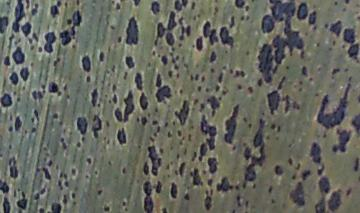tarspot: (269, 1, 303, 64), (316, 82, 351, 129), (244, 146, 266, 180), (257, 44, 273, 83), (224, 106, 240, 144), (201, 113, 217, 149), (147, 144, 162, 177), (174, 99, 191, 126), (289, 182, 306, 208), (334, 128, 351, 153), (13, 1, 25, 33), (267, 90, 280, 117), (254, 117, 266, 146), (126, 15, 137, 46), (124, 91, 135, 121), (328, 189, 342, 212), (143, 181, 153, 213), (219, 27, 234, 48), (308, 140, 321, 164), (216, 175, 233, 193), (190, 166, 204, 187), (341, 26, 357, 44), (156, 85, 172, 103), (43, 32, 56, 53), (329, 17, 342, 38), (207, 96, 220, 117), (261, 14, 275, 33), (75, 116, 89, 135), (92, 114, 103, 138), (166, 10, 178, 31), (11, 47, 25, 65), (319, 177, 332, 196), (17, 191, 29, 211), (8, 156, 18, 179), (116, 127, 127, 147), (280, 94, 291, 113), (313, 197, 326, 213), (296, 3, 308, 20), (134, 72, 144, 92), (41, 163, 52, 181), (208, 27, 218, 46), (178, 14, 185, 41), (168, 182, 179, 199), (13, 115, 24, 132), (81, 54, 91, 72), (8, 71, 20, 86), (112, 107, 124, 122), (60, 29, 71, 45), (72, 8, 81, 27), (199, 144, 209, 161), (208, 156, 218, 173), (347, 45, 360, 58), (21, 21, 32, 36), (307, 10, 317, 26), (352, 113, 360, 133), (47, 81, 59, 94), (50, 200, 62, 213), (124, 55, 135, 69), (2, 93, 13, 107), (195, 35, 204, 52), (139, 92, 148, 109), (1, 15, 9, 34), (20, 67, 30, 82), (203, 195, 213, 210), (4, 195, 12, 213), (91, 89, 99, 106), (203, 18, 210, 37), (58, 137, 69, 149), (151, 1, 160, 15), (1, 179, 10, 193), (277, 75, 285, 90), (142, 162, 150, 177), (208, 50, 217, 63), (157, 24, 165, 38), (179, 162, 186, 178), (155, 72, 162, 88), (49, 6, 59, 17), (274, 165, 284, 176), (166, 33, 175, 45), (234, 70, 246, 79), (317, 164, 326, 176), (292, 99, 301, 111), (354, 156, 360, 173), (301, 170, 311, 180), (173, 1, 182, 12), (97, 52, 106, 63), (31, 90, 42, 99), (185, 23, 192, 37), (31, 3, 38, 16), (3, 54, 10, 67), (32, 30, 39, 43), (217, 71, 224, 84), (155, 181, 162, 194), (234, 1, 245, 9), (161, 55, 169, 66), (330, 66, 341, 74), (301, 65, 308, 77), (190, 151, 197, 163), (140, 116, 148, 126), (86, 156, 94, 166), (112, 94, 118, 106), (34, 110, 40, 122), (33, 192, 41, 201), (190, 1, 197, 11), (183, 192, 190, 202), (70, 167, 77, 177), (54, 56, 60, 67), (62, 193, 68, 204), (269, 197, 277, 205), (220, 63, 228, 71), (194, 73, 201, 82), (176, 128, 183, 137), (173, 168, 180, 177), (40, 84, 47, 93), (104, 119, 111, 128), (147, 135, 156, 142), (115, 1, 121, 11), (152, 37, 158, 47), (230, 16, 235, 28), (182, 147, 188, 157), (111, 62, 116, 74), (8, 33, 15, 41), (247, 86, 254, 94), (193, 98, 200, 106), (290, 172, 297, 180), (267, 185, 274, 193), (30, 126, 37, 134), (74, 142, 82, 149), (70, 192, 77, 200), (71, 28, 76, 39), (257, 78, 263, 87), (111, 83, 117, 92), (122, 71, 128, 80), (64, 180, 70, 189), (63, 171, 69, 180), (58, 170, 64, 179), (117, 35, 122, 45), (200, 101, 205, 111), (346, 188, 351, 198), (109, 25, 116, 32), (196, 85, 203, 92), (294, 162, 301, 169), (15, 96, 22, 103), (52, 112, 59, 119), (153, 131, 160, 138), (80, 135, 87, 142), (38, 206, 45, 213), (106, 160, 113, 167), (85, 75, 91, 83), (151, 49, 157, 57), (200, 75, 206, 83), (270, 122, 276, 130), (323, 21, 329, 29), (287, 157, 293, 165), (244, 199, 250, 207), (231, 144, 237, 152), (204, 188, 210, 196), (207, 178, 213, 186), (62, 84, 68, 92), (47, 160, 53, 168), (57, 180, 63, 188), (83, 173, 91, 179), (57, 118, 63, 126), (25, 1, 30, 10), (29, 36, 34, 45), (215, 84, 220, 93), (187, 132, 192, 141), (356, 94, 360, 105), (37, 46, 43, 53), (209, 67, 215, 74), (242, 116, 249, 122), (190, 42, 196, 49), (40, 187, 46, 194), (104, 206, 110, 213), (342, 67, 349, 73), (29, 45, 36, 51), (183, 62, 189, 69), (146, 61, 152, 68), (168, 70, 173, 78), (214, 5, 219, 13), (242, 181, 247, 189), (237, 200, 242, 208), (159, 147, 164, 155), (122, 165, 126, 175), (93, 168, 98, 176), (56, 1, 62, 7), (63, 2, 69, 8), (67, 19, 73, 25), (245, 5, 251, 11), (152, 119, 158, 125), (166, 162, 170, 171), (7, 126, 13, 132), (36, 167, 42, 173), (97, 189, 103, 195), (121, 201, 127, 207), (347, 76, 353, 82), (136, 143, 142, 149), (71, 43, 77, 49), (134, 1, 141, 6), (182, 1, 187, 8), (237, 83, 242, 90), (222, 89, 227, 96), (298, 79, 303, 86), (178, 87, 183, 94), (248, 122, 253, 129), (252, 183, 257, 190), (236, 194, 241, 201), (236, 184, 241, 191), (202, 168, 207, 175), (135, 117, 140, 124), (167, 131, 172, 138), (8, 144, 13, 151), (66, 93, 71, 100), (106, 138, 111, 145), (176, 54, 180, 62), (190, 74, 194, 82), (332, 39, 336, 47), (210, 188, 214, 196), (31, 116, 35, 124), (75, 1, 81, 6), (174, 65, 180, 70), (333, 1, 339, 6), (309, 76, 314, 82), (231, 207, 236, 213), (179, 139, 184, 145), (164, 121, 169, 127), (107, 99, 112, 105), (154, 107, 159, 113), (162, 207, 167, 213), (6, 1, 12, 6), (42, 146, 48, 151), (176, 72, 180, 79), (277, 126, 281, 133), (344, 1, 351, 5), (230, 68, 234, 75), (176, 152, 180, 159), (157, 126, 161, 133), (177, 44, 182, 49), (312, 27, 317, 32), (286, 65, 291, 70), (18, 38, 23, 43), (72, 200, 77, 205), (241, 16, 245, 22), (171, 46, 175, 52), (171, 57, 175, 63), (317, 42, 321, 48), (218, 95, 222, 101), (206, 86, 209, 94), (197, 13, 201, 18), (247, 15, 250, 21), (247, 51, 250, 57), (356, 16, 360, 20)
